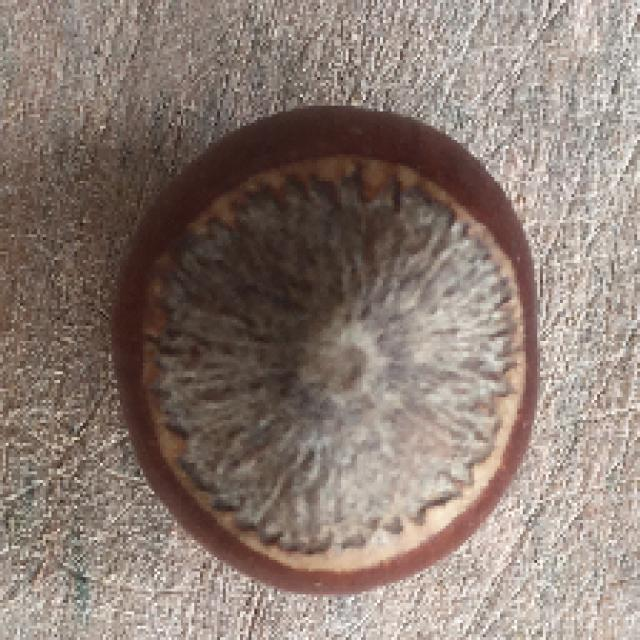qualityHazelnut: (110, 106, 542, 599)
